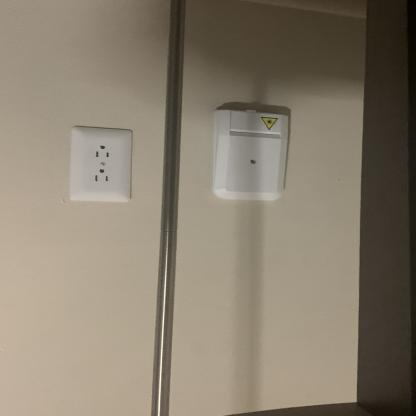OUTLET: (69, 132, 130, 203)
